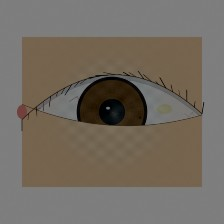pinguecula_lesion: (149, 97, 180, 121)
